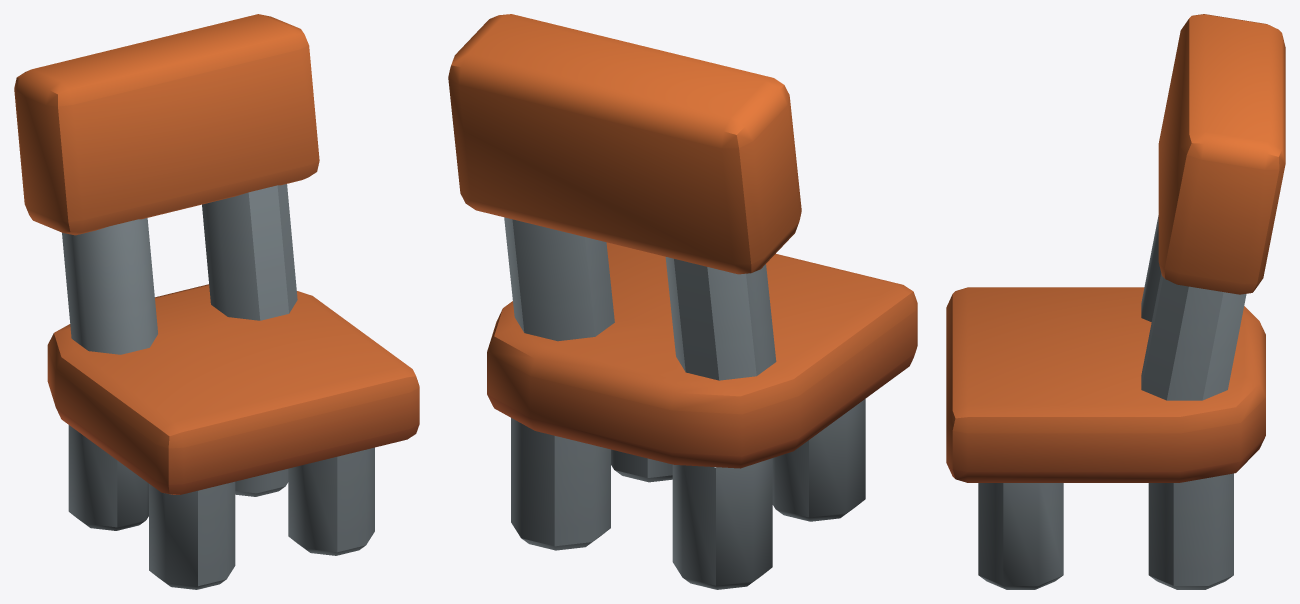
Rendered from terrace-chair.glb.
3 renders of one model, left to right at view 1: azimuth 30°, elevation 25°; view 2: azimuth 150°, elevation 25°; view 3: azimuth 270°, elevation 25°, orthographic. The views are drawn at different scales.
Parts seen in each view (by area): view 1: chair_A; view 2: chair_A; view 3: chair_A.
Boxes of the visible parts, x1,y1,x2,y2 form: chair_A: (14, 14, 419, 589); chair_A: (448, 14, 917, 589); chair_A: (946, 14, 1285, 589).
Size of the model in its own units: 0.75 by 1.21 by 0.7962.
Materials: 1 (1 with a texture image).
